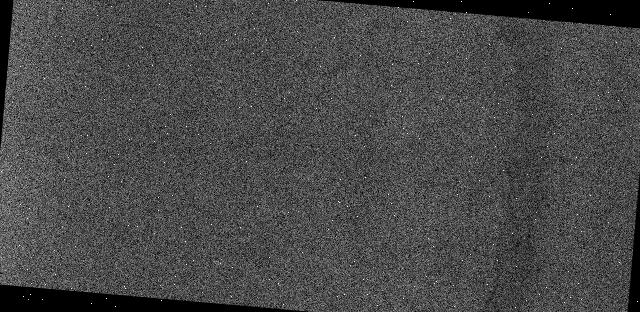water_spot: (463, 22, 580, 312)
